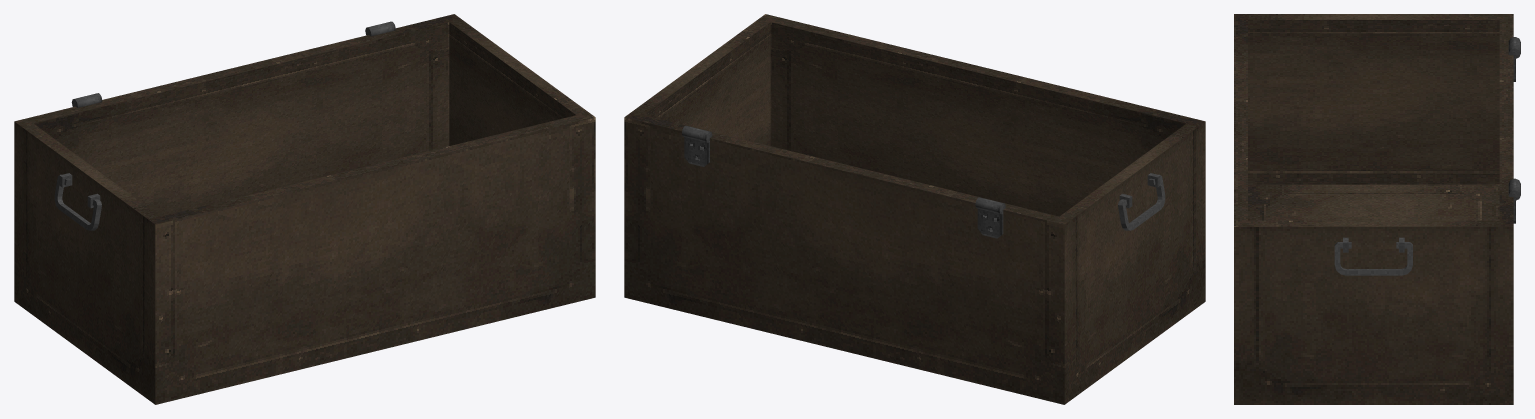
Rendered from wooden_crate_2_c-col.glb.
3 views of the same model, side by side, from view 1: azimuth 30°, elevation 25°; view 2: azimuth 150°, elevation 25°; view 3: azimuth 270°, elevation 25° (orthographic).
Visible parts, largest first — view 1: wooden_crate_2_c-col; view 2: wooden_crate_2_c-col; view 3: wooden_crate_2_c-col.
Boxes of the visible parts, <box> form: wooden_crate_2_c-col: <box>14,14,595,404</box>; wooden_crate_2_c-col: <box>624,14,1205,404</box>; wooden_crate_2_c-col: <box>1234,14,1520,404</box>.
Bounding box in the file's own units: 0.9492 × 0.365 × 0.513.
Materials: 1 (1 with a texture image).
